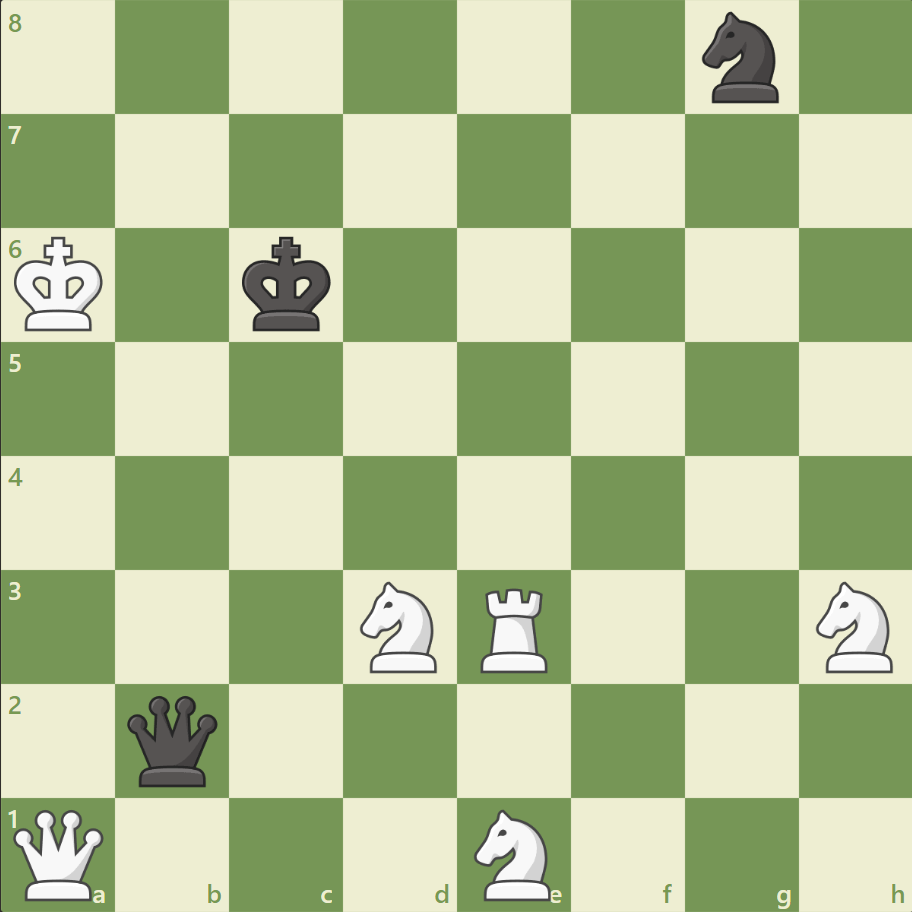K: (11, 231, 111, 339)
N: (351, 575, 449, 677), (806, 575, 903, 677), (465, 802, 562, 904)
Q: (10, 804, 109, 903)
R: (473, 579, 556, 676)
k: (238, 231, 338, 339)
n: (692, 7, 789, 110)
q: (124, 690, 223, 789)
